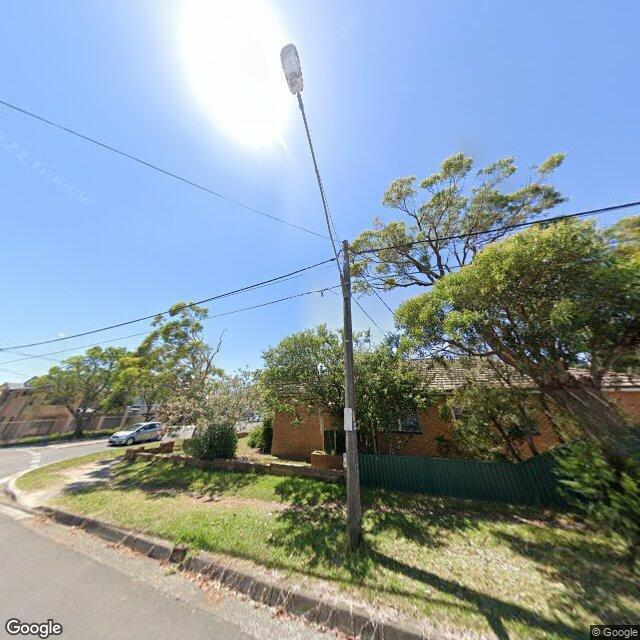streetlight: (279, 44, 349, 300)
timber-pole: (341, 240, 364, 553)
